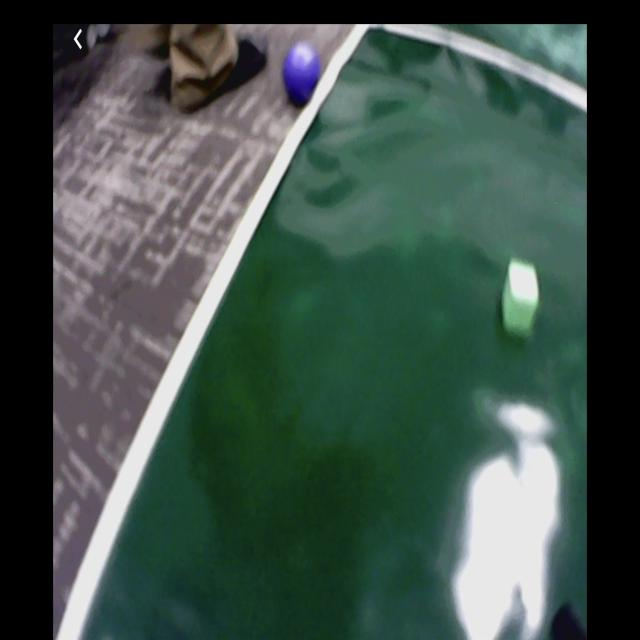ball: (283, 44, 321, 102)
